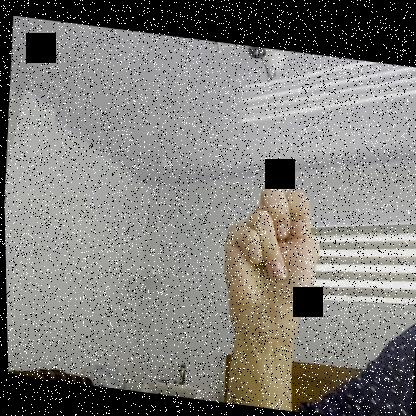N: (214, 173, 324, 331)
